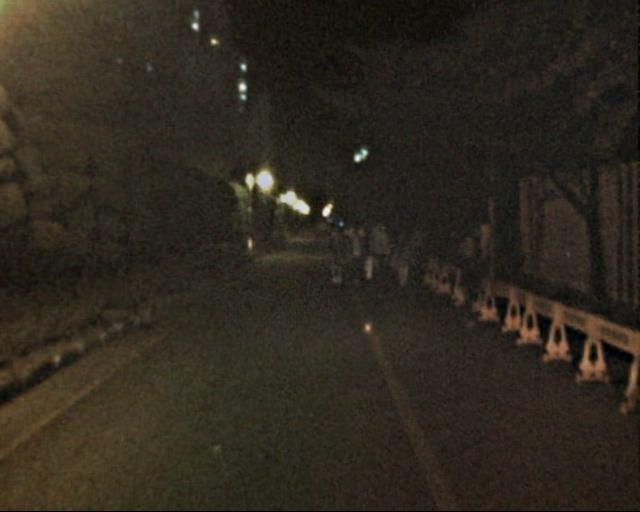person: (449, 235, 485, 322), (365, 219, 392, 285), (319, 221, 345, 285), (406, 224, 431, 285), (343, 225, 367, 283), (388, 229, 411, 286), (356, 224, 376, 272)
